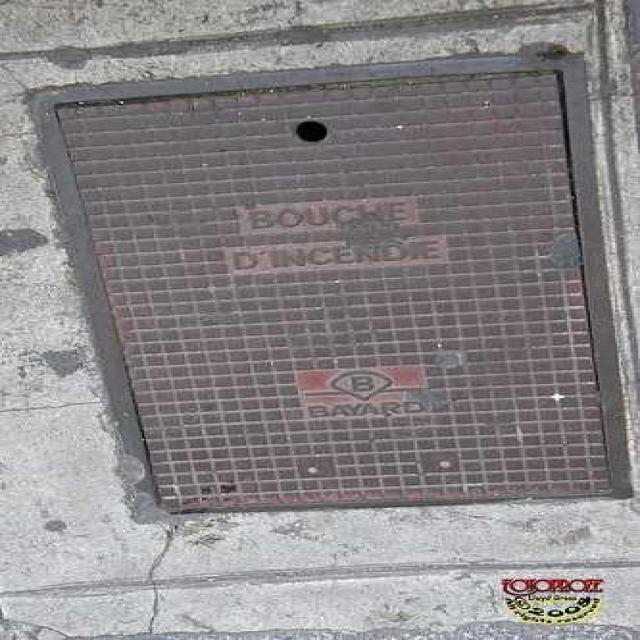manhole: (31, 50, 632, 518)
